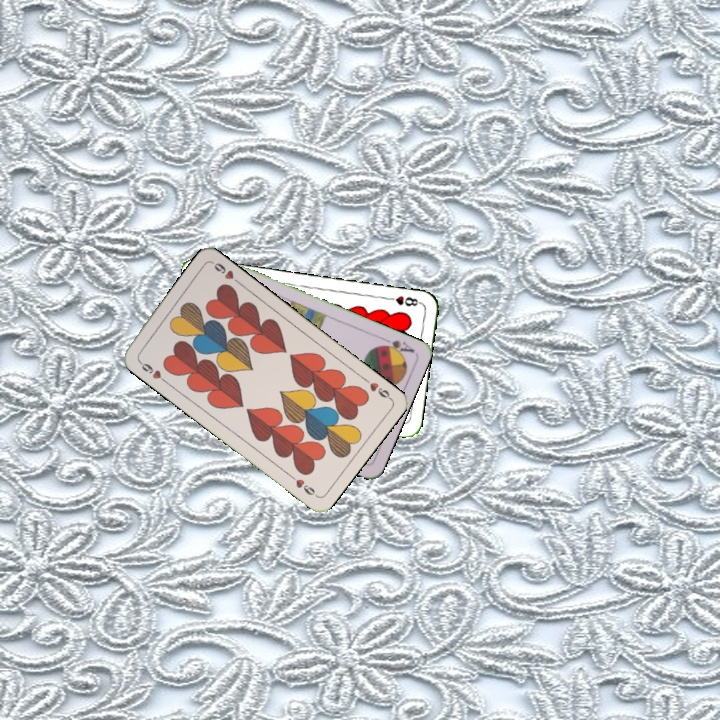H8: (383, 292, 423, 309)
H9: (358, 373, 394, 402), (134, 356, 169, 385)
SA: (375, 333, 417, 358)
